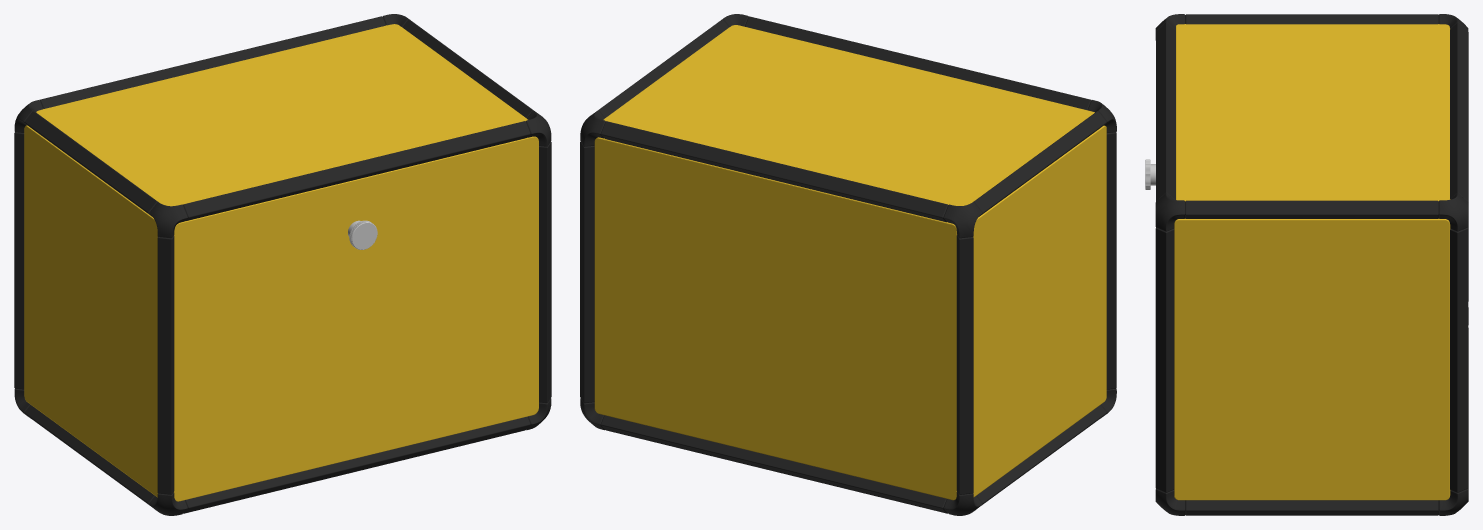
3 renders of one model, left to right at view 1: azimuth 30°, elevation 25°; view 2: azimuth 150°, elevation 25°; view 3: azimuth 270°, elevation 25°, orthographic.
Visible parts, largest first — view 1: 523x329x374; view 2: 523x329x374; view 3: 523x329x374.
Part boxes in pixels (x1,y1,x2,y2): 523x329x374: [14, 14, 551, 515]; 523x329x374: [580, 14, 1116, 515]; 523x329x374: [1145, 14, 1468, 515].
Bounding box in the file's own units: 0.6007 × 0.4516 × 0.4196.
